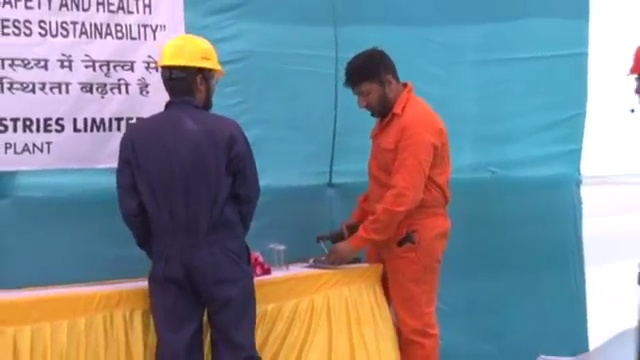helmet: (156, 33, 224, 79), (629, 44, 640, 77)
helmet_off: (346, 47, 406, 118)
helmet_on: (157, 34, 223, 111), (629, 43, 640, 106)
person: (112, 33, 265, 360), (324, 47, 455, 360)
